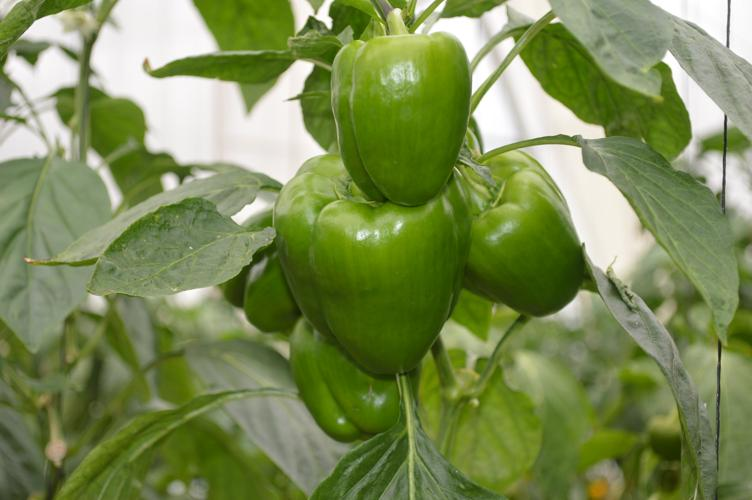BellPepper: (273, 154, 454, 378), (323, 32, 474, 212), (468, 146, 593, 333), (280, 320, 406, 451), (200, 202, 304, 347)
